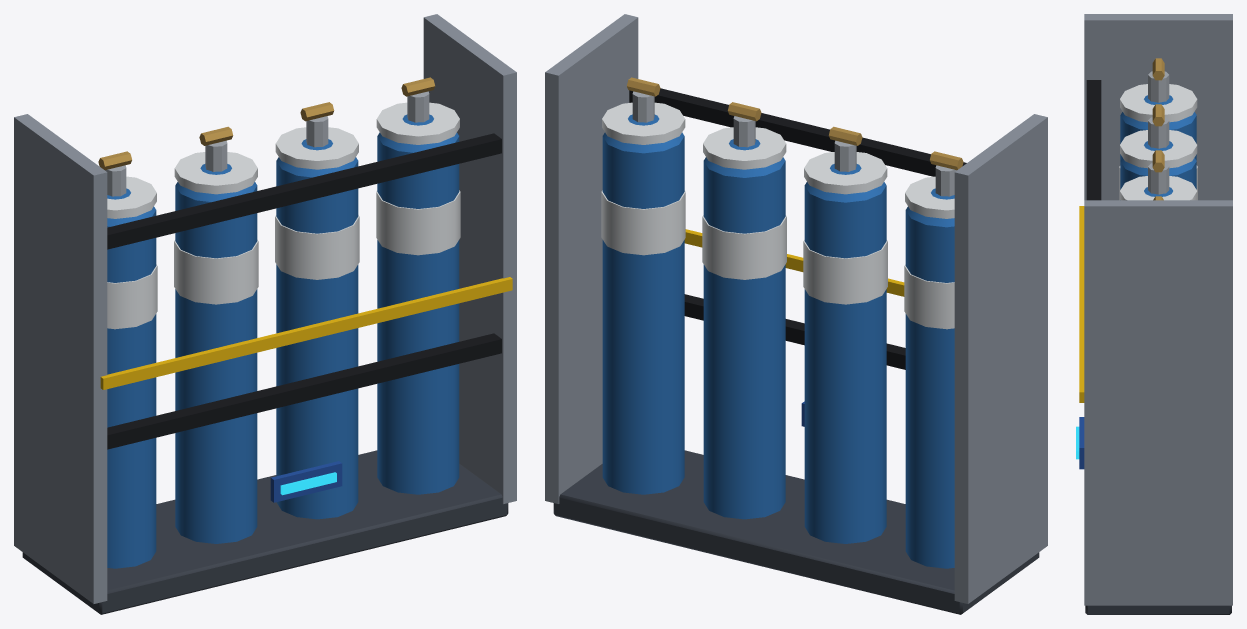
The model's file is cylinder_oxygen_cylinder_rack.glb.
3 views of the same model, side by side, from view 1: azimuth 30°, elevation 25°; view 2: azimuth 150°, elevation 25°; view 3: azimuth 270°, elevation 25° (orthographic). The views are drawn at different scales.
Parts seen in each view (by area): view 1: cylinder_oxygen_cylinder_rack; view 2: cylinder_oxygen_cylinder_rack; view 3: cylinder_oxygen_cylinder_rack.
Part boxes in pixels (x1=…): cylinder_oxygen_cylinder_rack: x1=14, y1=14, x2=516, y2=614; cylinder_oxygen_cylinder_rack: x1=545, y1=14, x2=1047, y2=614; cylinder_oxygen_cylinder_rack: x1=1076, y1=14, x2=1232, y2=614.
Bounding box in the file's own units: 1.55 × 1.55 × 0.534.
